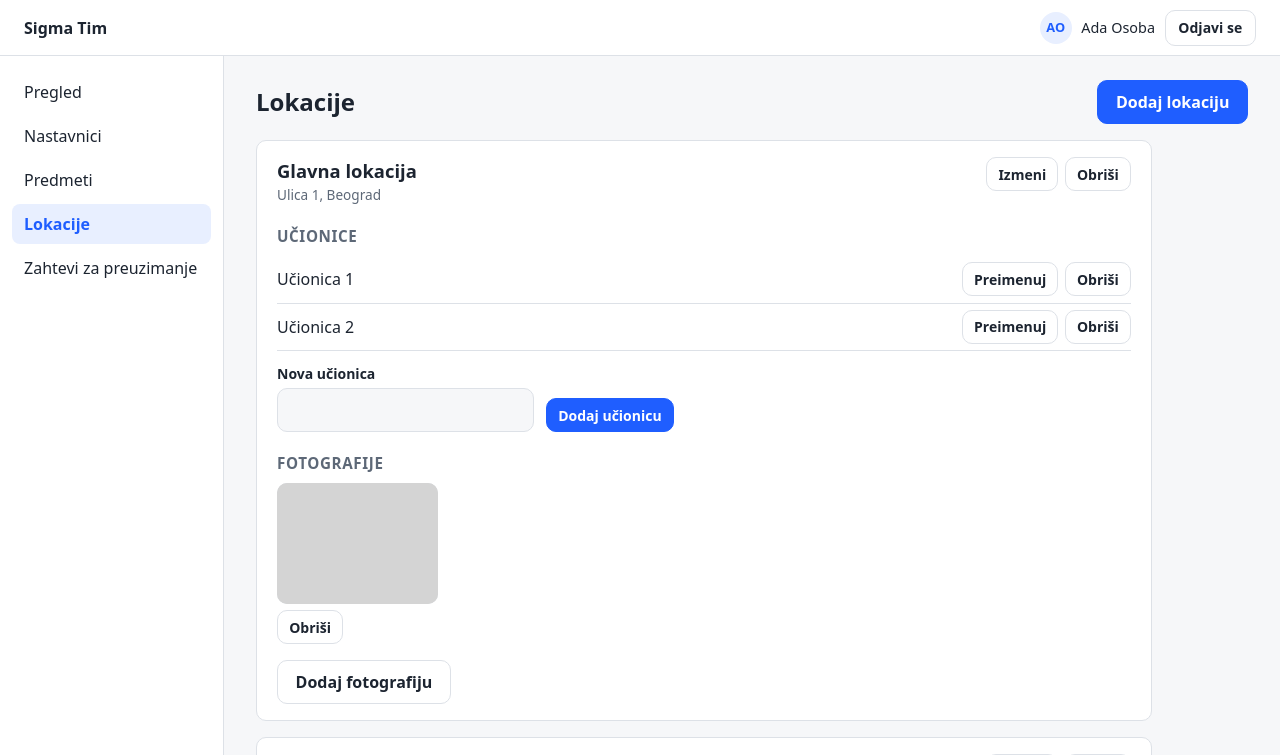
locations › explains a duplicate name
Click the button "Dodaj lokaciju": [1173, 102] box x1=1097 y1=80 x2=1248 y2=124
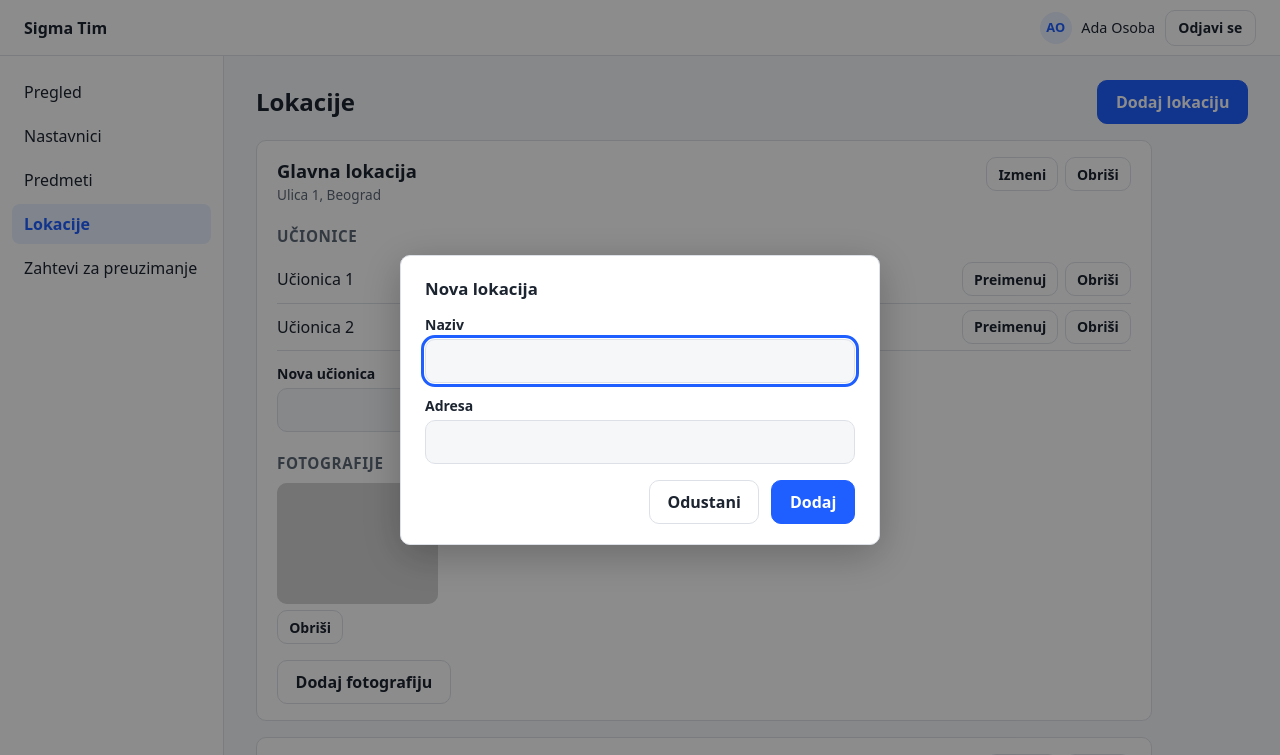
In the field labelled "Naziv": [640, 361] box x1=425 y1=339 x2=855 y2=383, type "zemun"
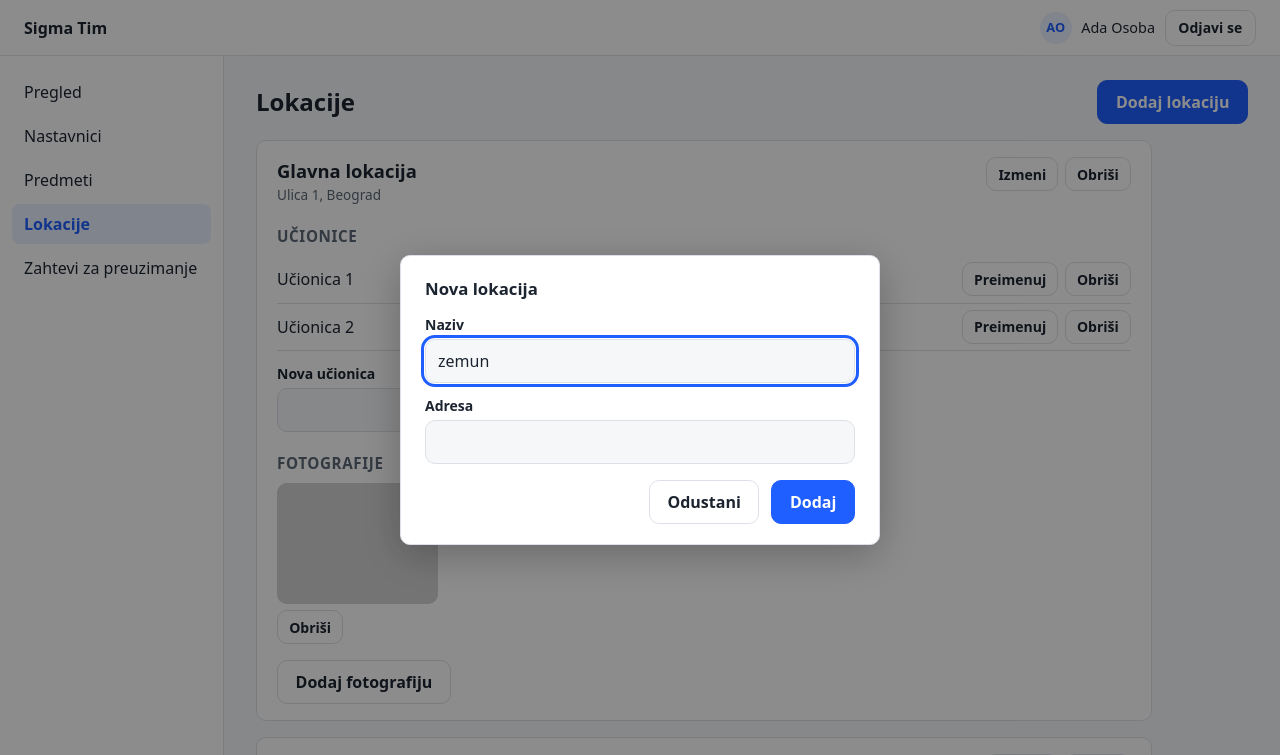
In the field labelled "Adresa": [640, 442] box x1=425 y1=420 x2=855 y2=464, type "x"
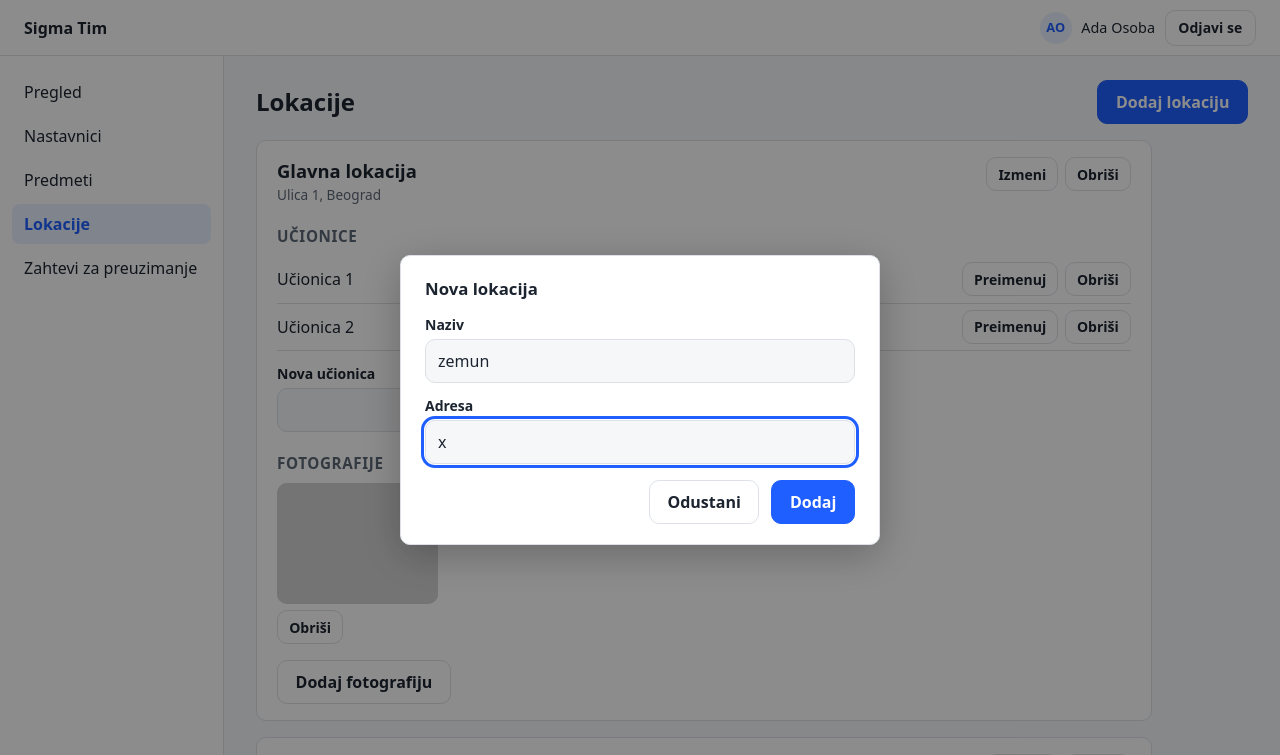
Click the button "Dodaj": [813, 502] box x1=771 y1=480 x2=855 y2=524
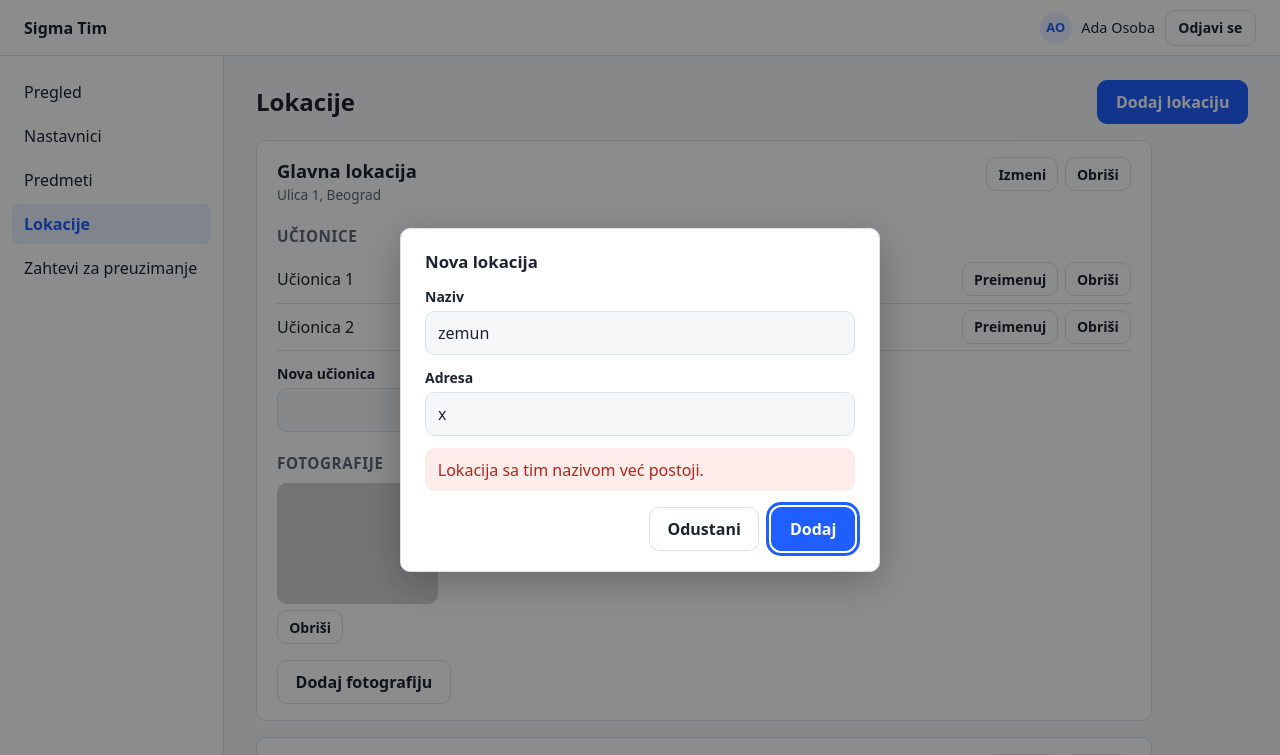
Expected: the message reads "Lokacija sa tim nazivom već postoji.", x1=438 y1=459 x2=704 y2=481
